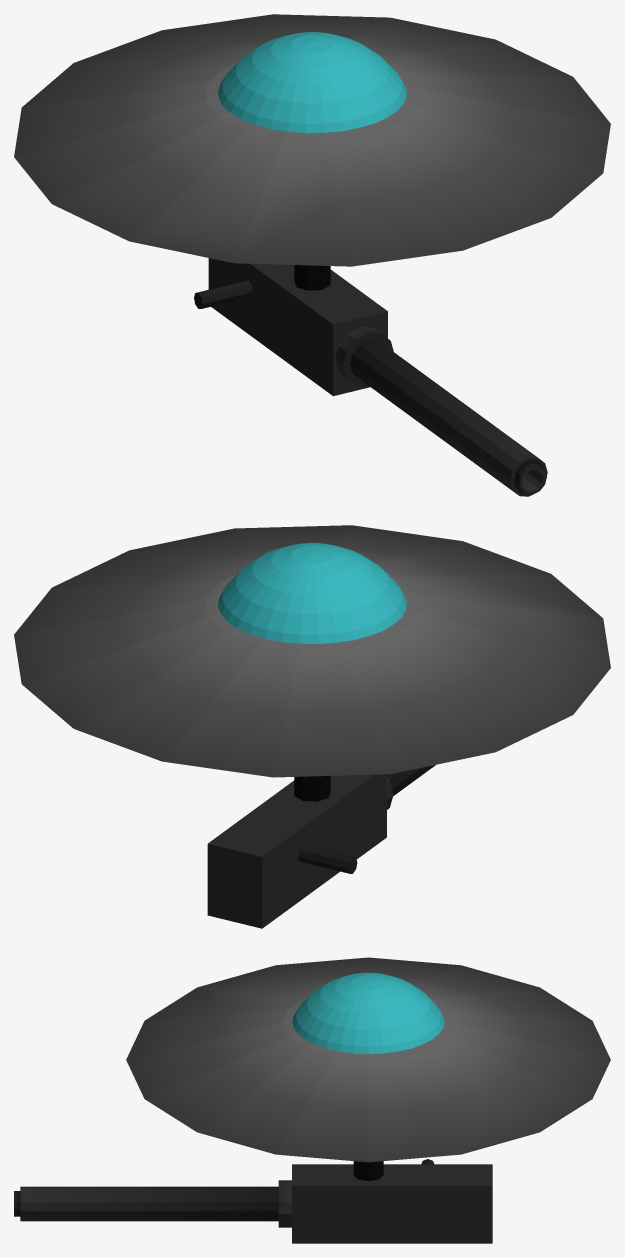
File: boss fase 3.fbx
The picture shows the model from 3 angles, top to bottom: view 1: azimuth 30°, elevation 25°; view 2: azimuth 150°, elevation 25°; view 3: azimuth 270°, elevation 25°; orthographic projection. The views are drawn at different scales.
Parts seen in each view (by area): view 1: boss fase 3; view 2: boss fase 3; view 3: boss fase 3.
Boxes of the visible parts, x1,y1,x2,y2 form: boss fase 3: (14, 14, 610, 496); boss fase 3: (14, 525, 610, 928); boss fase 3: (14, 957, 610, 1243).
Bounding box in the file's own units: 555 × 318 × 683.
